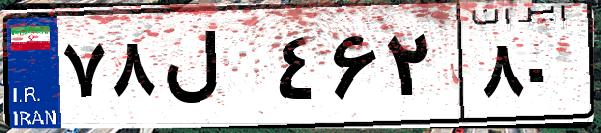0: (525, 38, 570, 115)
2: (385, 28, 445, 110)
4: (270, 28, 330, 110)
6: (330, 28, 385, 110)
7: (57, 26, 110, 100)
8: (475, 38, 525, 113), (110, 28, 158, 98)
ل: (158, 20, 270, 120)
